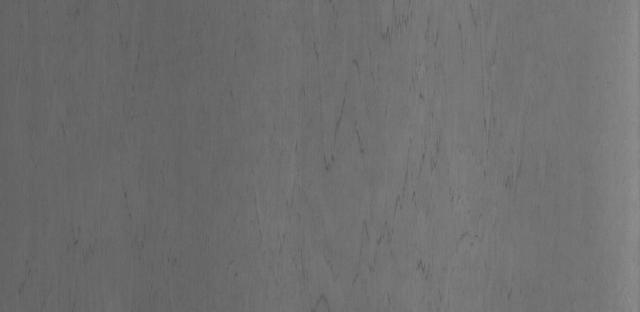silk_spot: (320, 30, 484, 284)
